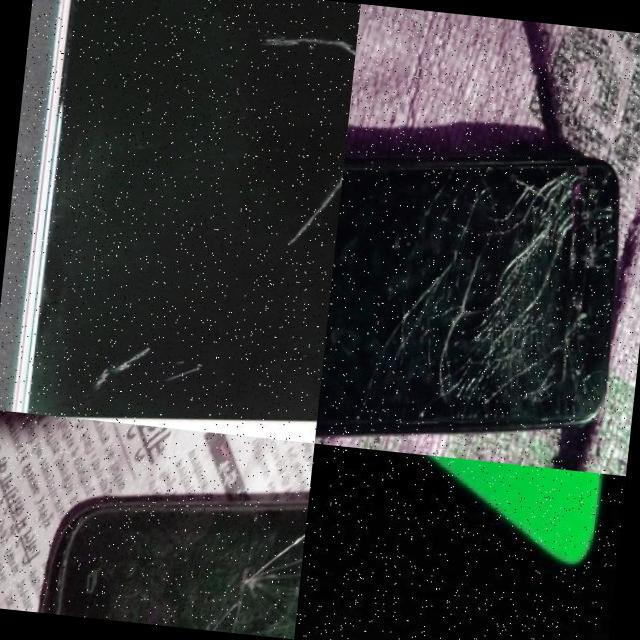scratch: (258, 17, 358, 76), (280, 157, 344, 246), (91, 329, 150, 382), (156, 344, 214, 380)
screen crack: (374, 131, 629, 446), (161, 476, 309, 639)
